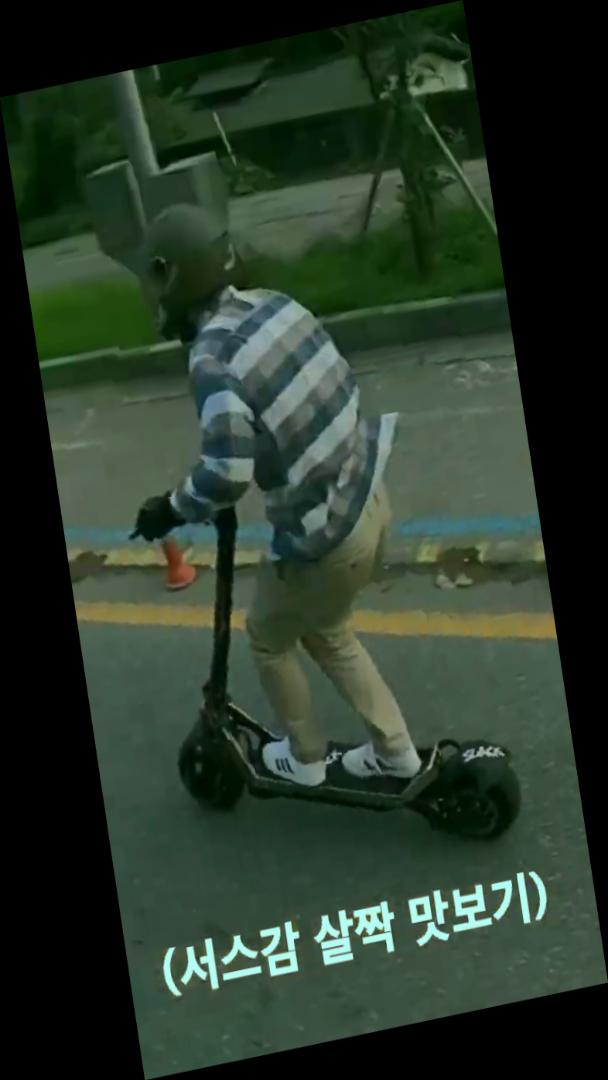helmet: (80, 148, 532, 905)
